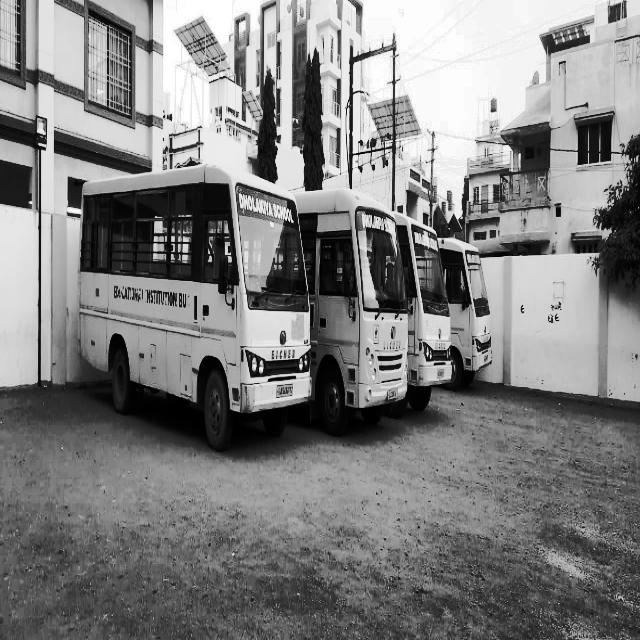Bus: (74, 162, 316, 454), (314, 190, 410, 423), (404, 212, 454, 411), (452, 237, 496, 396)
